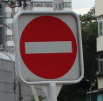no_entry: (13, 10, 84, 85)
